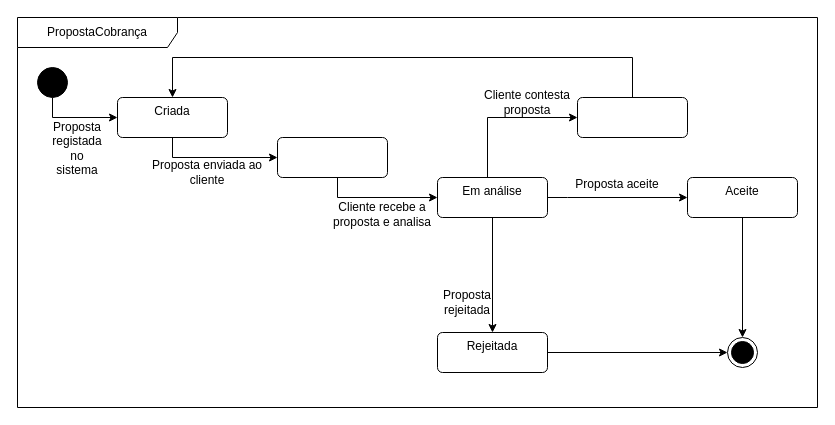
Image size: 835x425. Some labels were removed from this diagram. Each missing label, with the centre of its shape:
Contestada: [632,117]
Enviada: [332,157]
